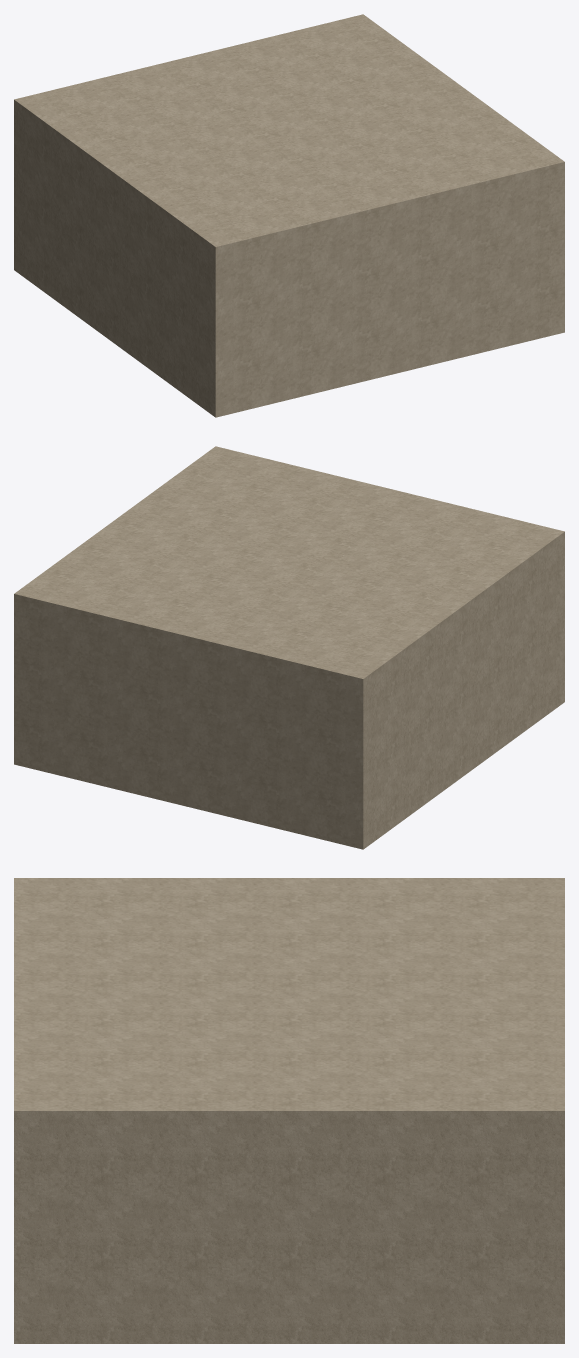
The model's file is WhiteRoom.fbx.
3 renders of one model, top to bottom at view 1: azimuth 30°, elevation 25°; view 2: azimuth 150°, elevation 25°; view 3: azimuth 270°, elevation 25°, orthographic. The views are drawn at different scales.
Parts seen in each view (by area): view 1: WhiteRoom; view 2: WhiteRoom; view 3: WhiteRoom.
Part boxes in pixels (bbox=[...]): WhiteRoom: bbox=[14, 14, 564, 417]; WhiteRoom: bbox=[14, 446, 564, 849]; WhiteRoom: bbox=[14, 878, 564, 1343].
Size of the model in its own units: 61.6 by 28.75 by 61.6.
